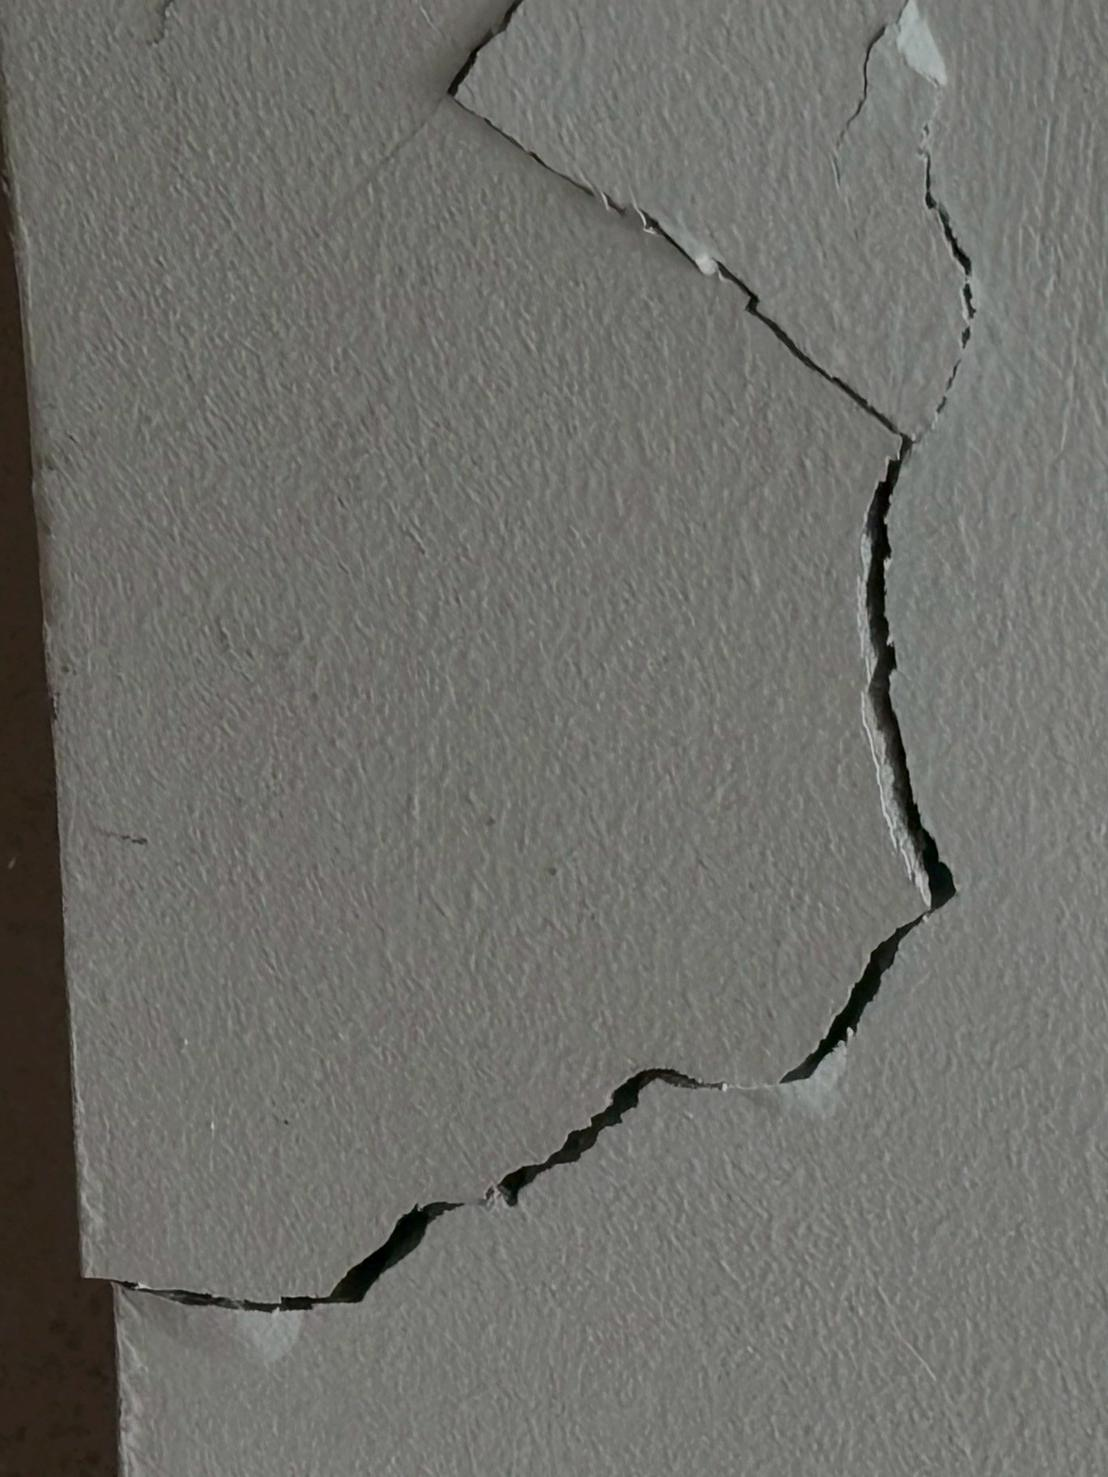High: (85, 3, 1043, 1400)
